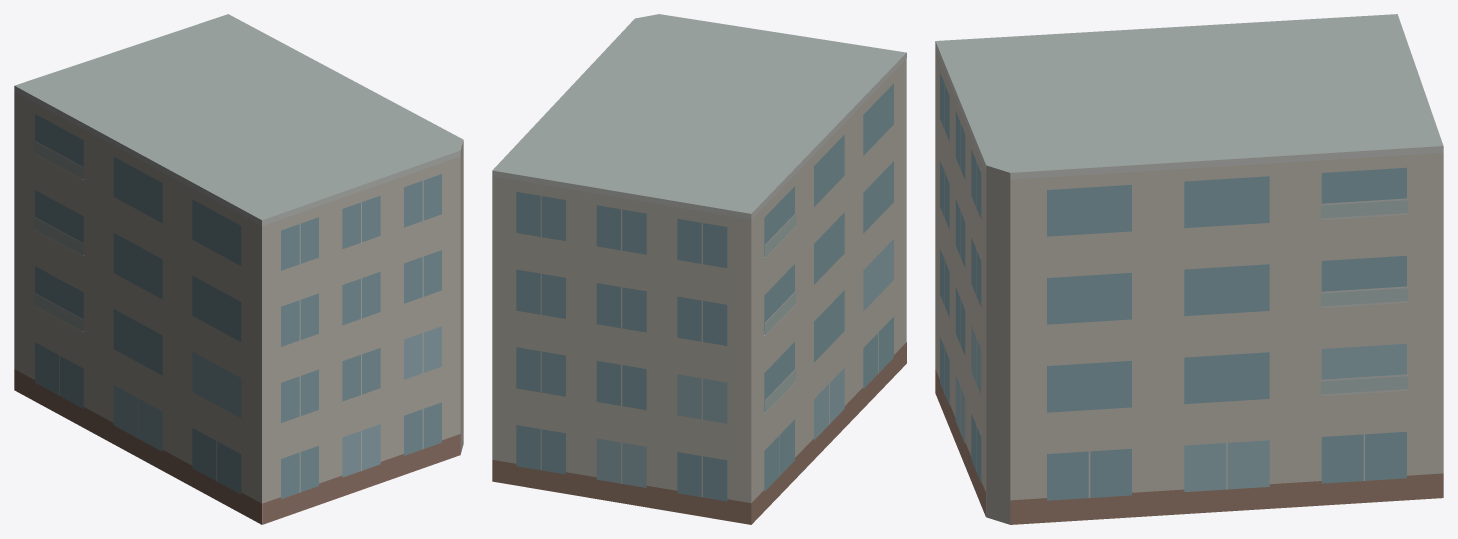
File: survey-upis-32660630.glb
3 views of the same model, side by side, from view 1: azimuth 30°, elevation 25°; view 2: azimuth 150°, elevation 25°; view 3: azimuth 270°, elevation 25° (orthographic). The views are drawn at different scales.
Visible parts, largest first — view 1: survey-upis-32660630.tmp; view 2: survey-upis-32660630.tmp; view 3: survey-upis-32660630.tmp.
Part boxes in pixels (x1,y1,x2,y2): survey-upis-32660630.tmp: (14, 14, 463, 524); survey-upis-32660630.tmp: (492, 14, 906, 524); survey-upis-32660630.tmp: (935, 14, 1443, 524).
Bounding box in the file's own units: 12.4 × 12.8 × 16.76.
